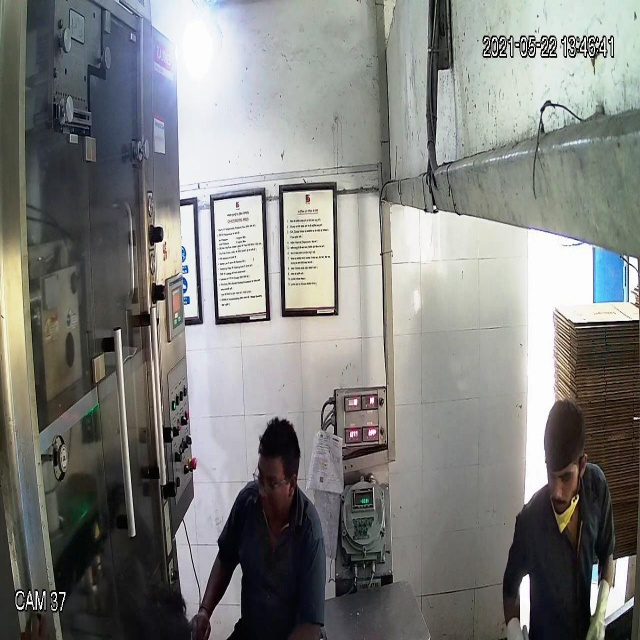Gafas: (249, 463, 298, 495)
Sin_gafas: (544, 465, 582, 490)
